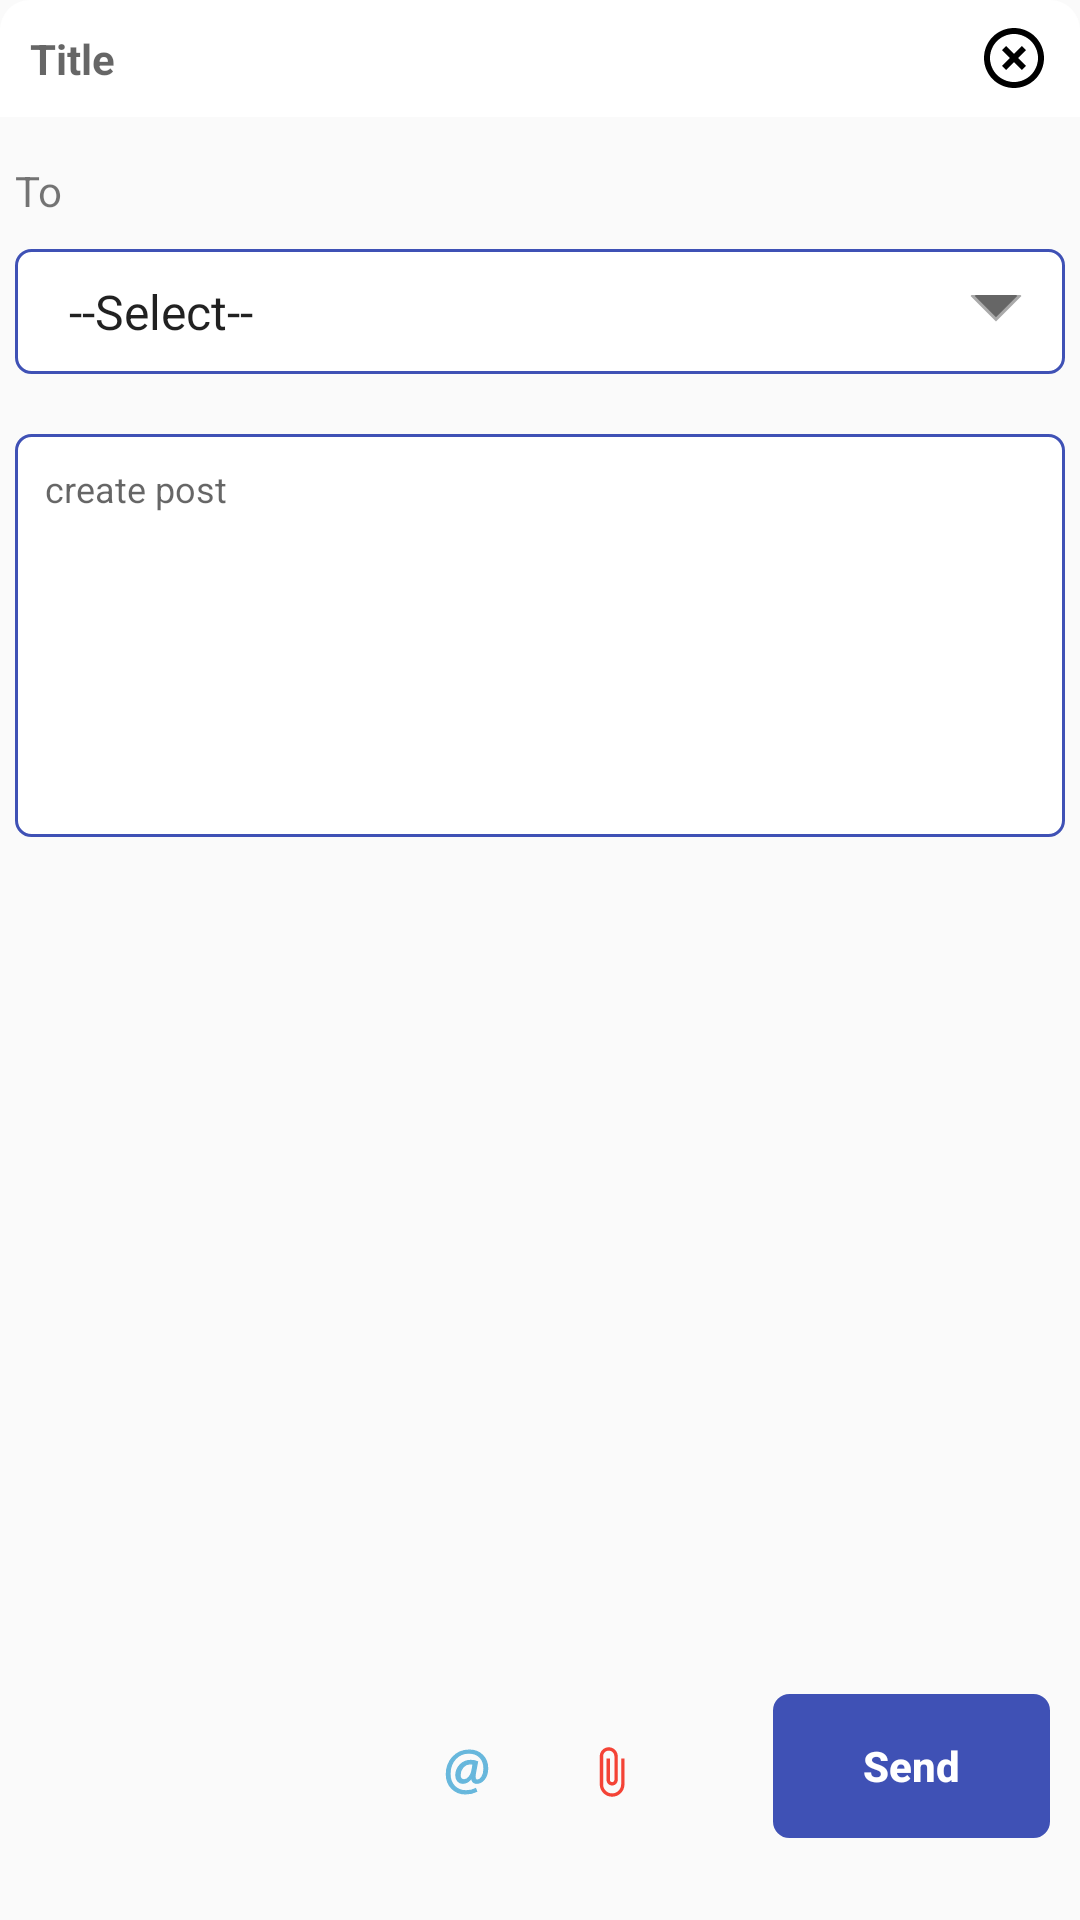

Icon bounding boxes for this 1080x1920 phone screenshot, format [x1=x1, y1=y1, x2=x2, y2=y2]:
attach file: [x1=599, y1=1747, x2=625, y2=1797]
close: [x1=984, y1=28, x2=1044, y2=88]
tag: [x1=445, y1=1749, x2=489, y2=1795]
